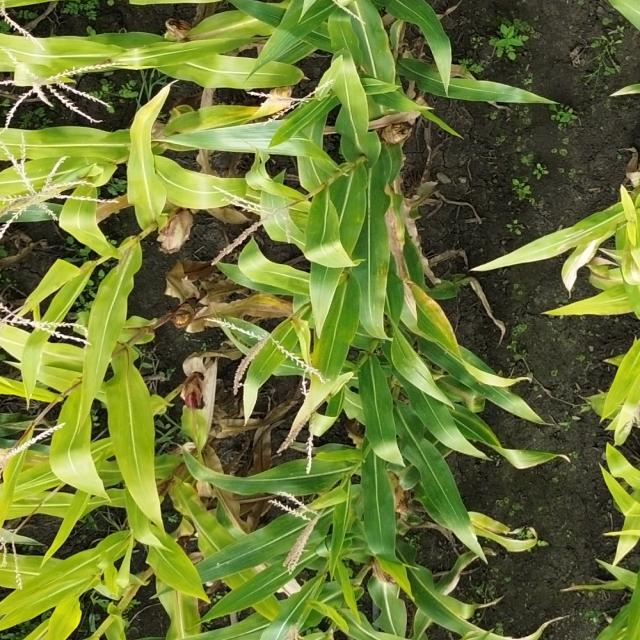northern-leaf-blight: (387, 273, 498, 403), (355, 172, 441, 320), (368, 523, 438, 609), (170, 88, 267, 138)
